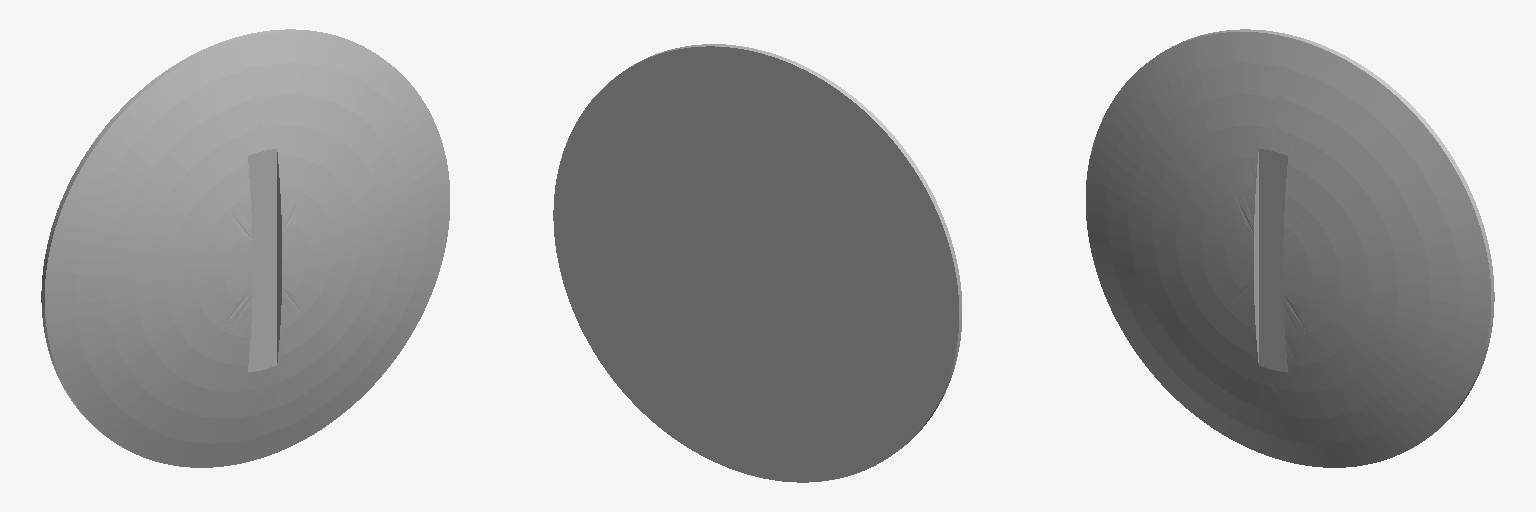
The model's file is screw_FRONT3.obj.
The picture shows the model from 3 angles: view 1: azimuth 30°, elevation 25°; view 2: azimuth 150°, elevation 25°; view 3: azimuth 330°, elevation 25°; orthographic projection.
Parts seen in each view (by area): view 1: screw_FRONT3; view 2: screw_FRONT3; view 3: screw_FRONT3.
Part boxes in pixels (x1,y1,x2,y2): screw_FRONT3: (41, 29, 449, 467); screw_FRONT3: (553, 44, 961, 482); screw_FRONT3: (1086, 29, 1494, 467).
Bounding box in the file's own units: 11 × 11 × 1.09.